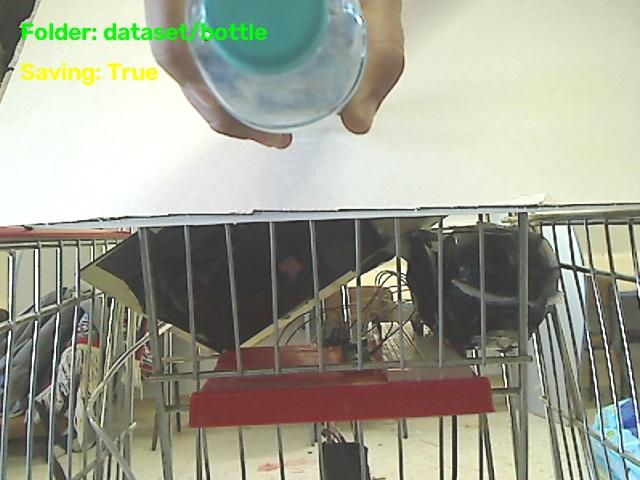Bottle: (188, 0, 366, 131)
